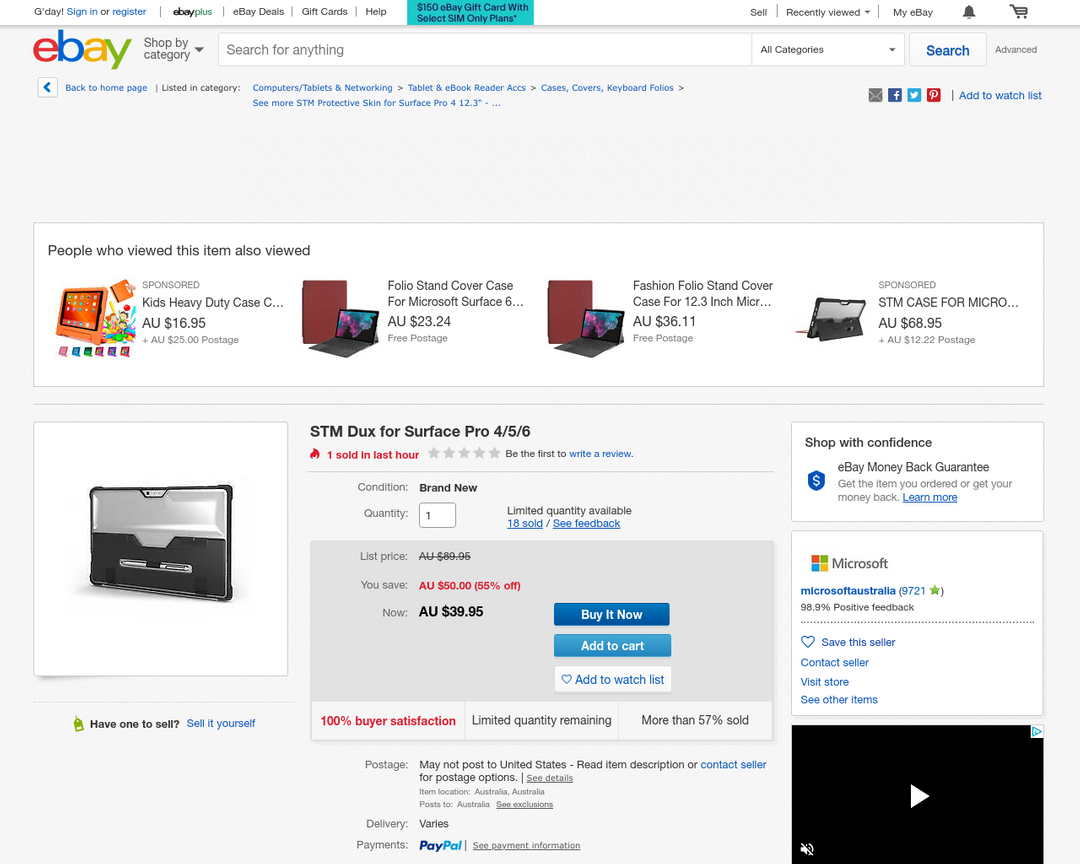Ebay: (31, 26, 136, 73)
